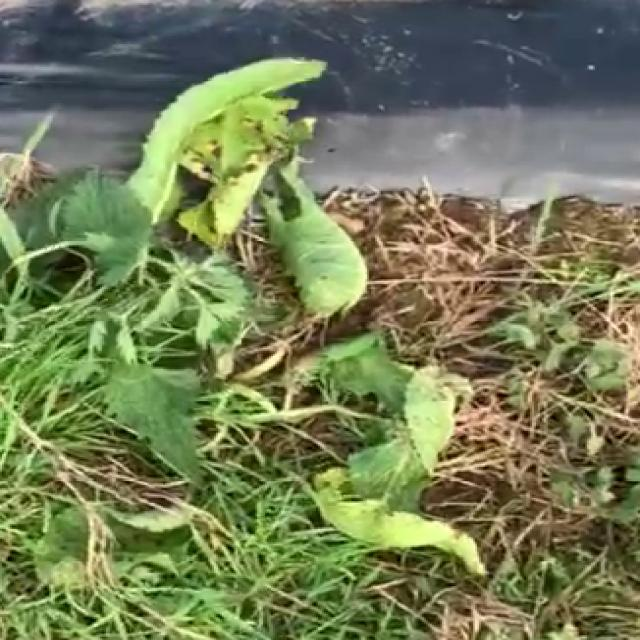organic waste: (82, 49, 348, 263)
